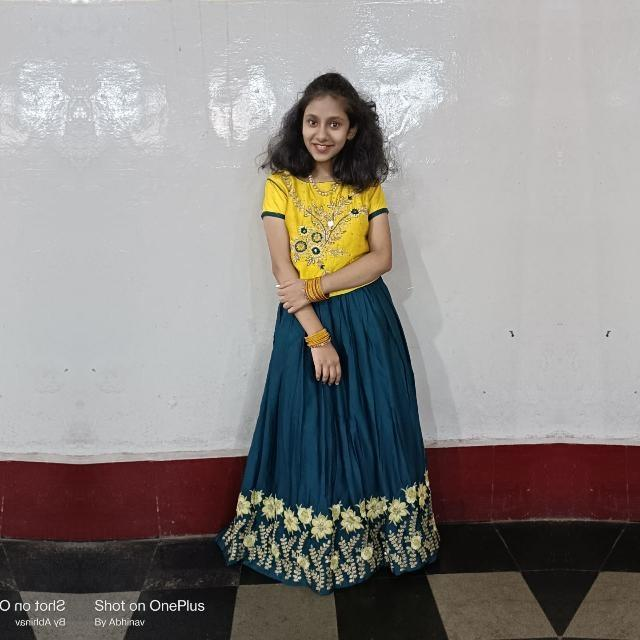person: (263, 75, 411, 582)
